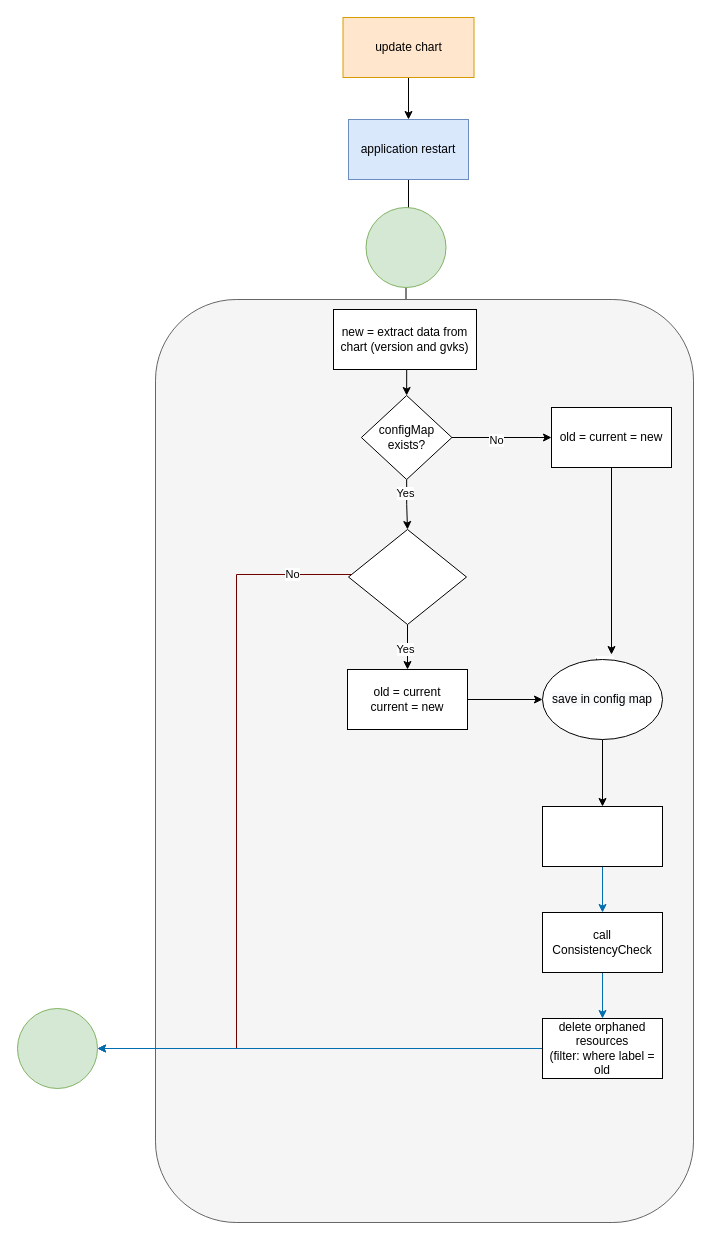
Image size: 711x1240. Some labels were removed from this diagram. The shapes that lost their labels are listed below. From the top down, each one's centre as x and y in pixels, then its label:
[405,247]: 1st reconcilation
[407,576]: newVersion != currentVersion
[602,836]: set label "chart-version" to 'current'
[57,1048]: continue reconcilation
